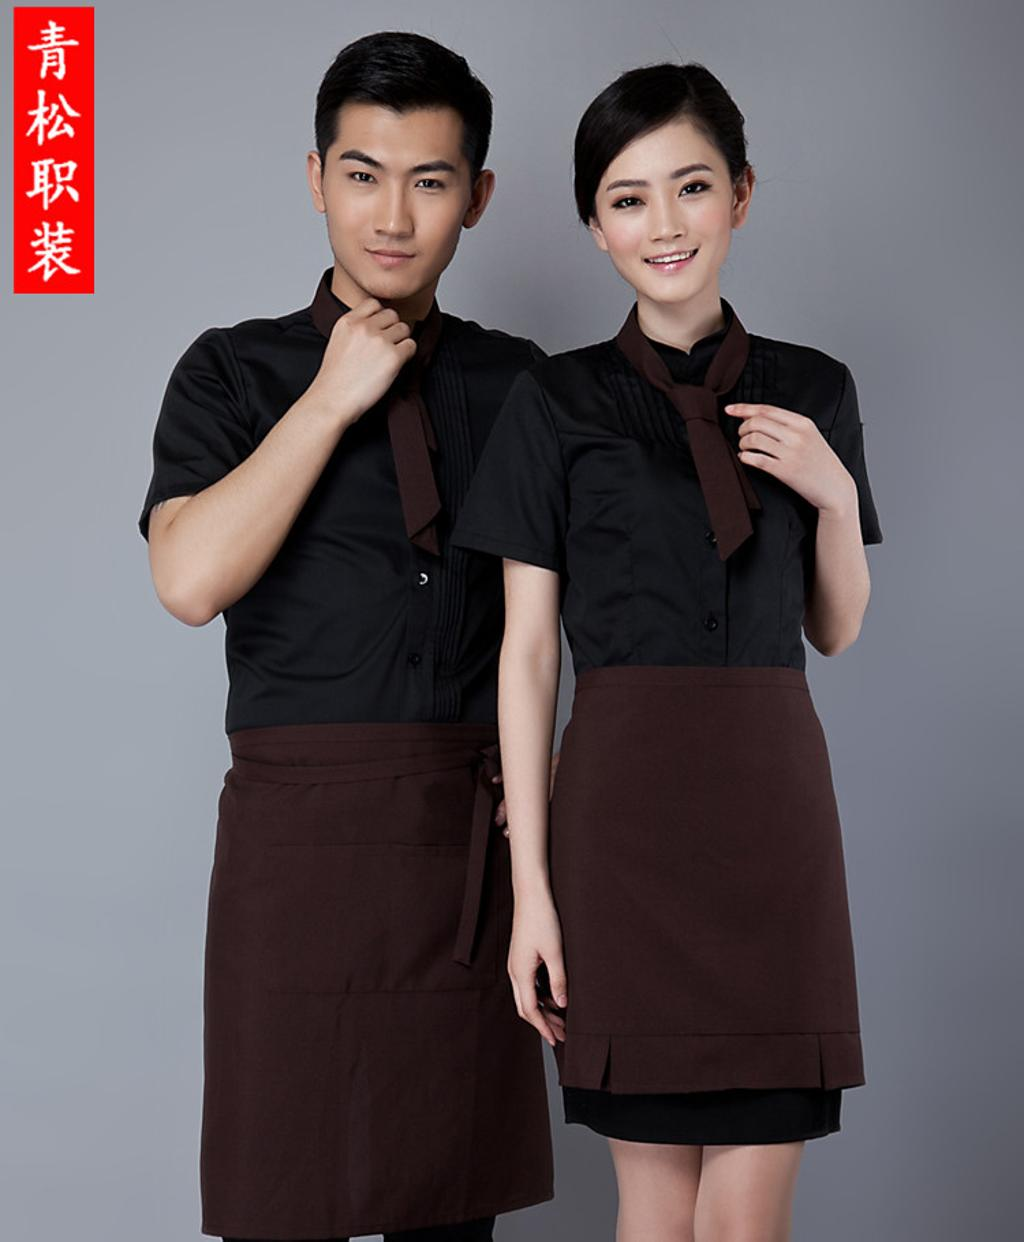face: (323, 87, 478, 298), (595, 112, 733, 306)
